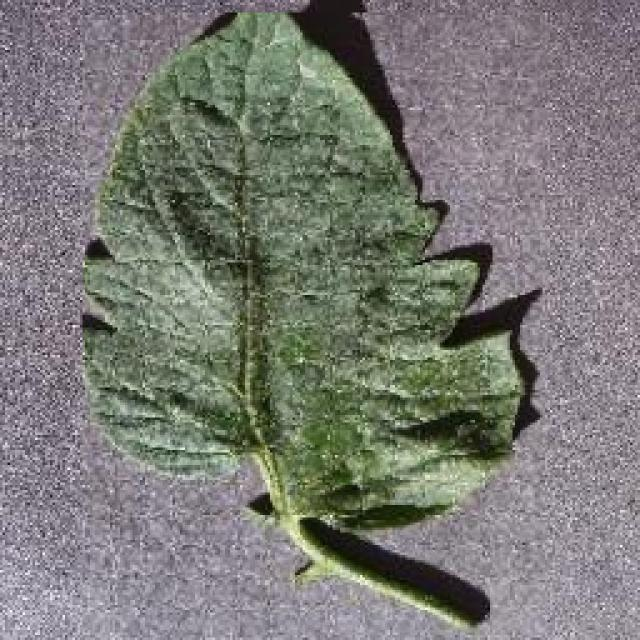Healthy: (82, 12, 548, 640)
